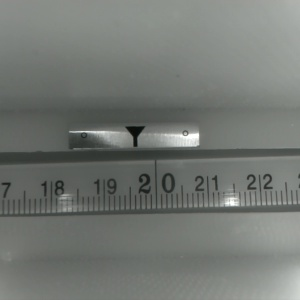0: (161, 173, 175, 193)
1: (211, 175, 218, 191), (93, 179, 100, 194), (40, 181, 47, 196)
2: (138, 173, 151, 194), (194, 176, 204, 192), (262, 173, 272, 189), (245, 174, 255, 189)
7: (0, 182, 11, 198)
8: (54, 181, 64, 196)
9: (106, 178, 116, 194)
finger: (122, 126, 145, 147)
